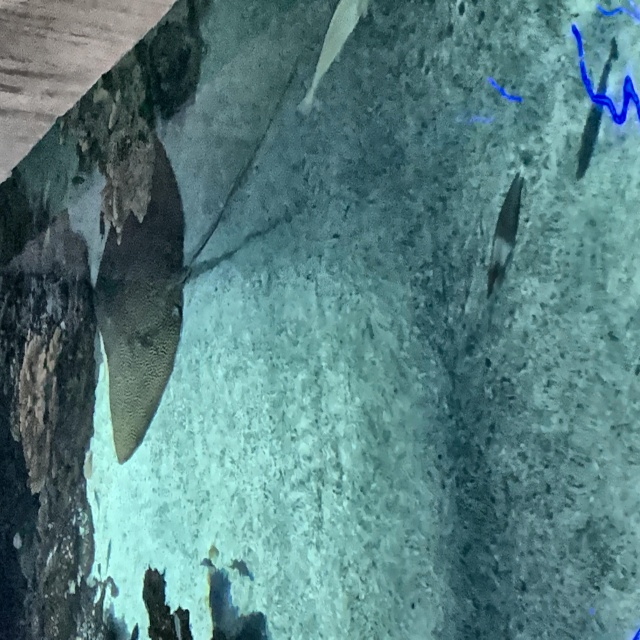fish: (299, 0, 368, 116), (484, 147, 532, 302), (577, 39, 618, 180)
stingray: (92, 128, 184, 467)
